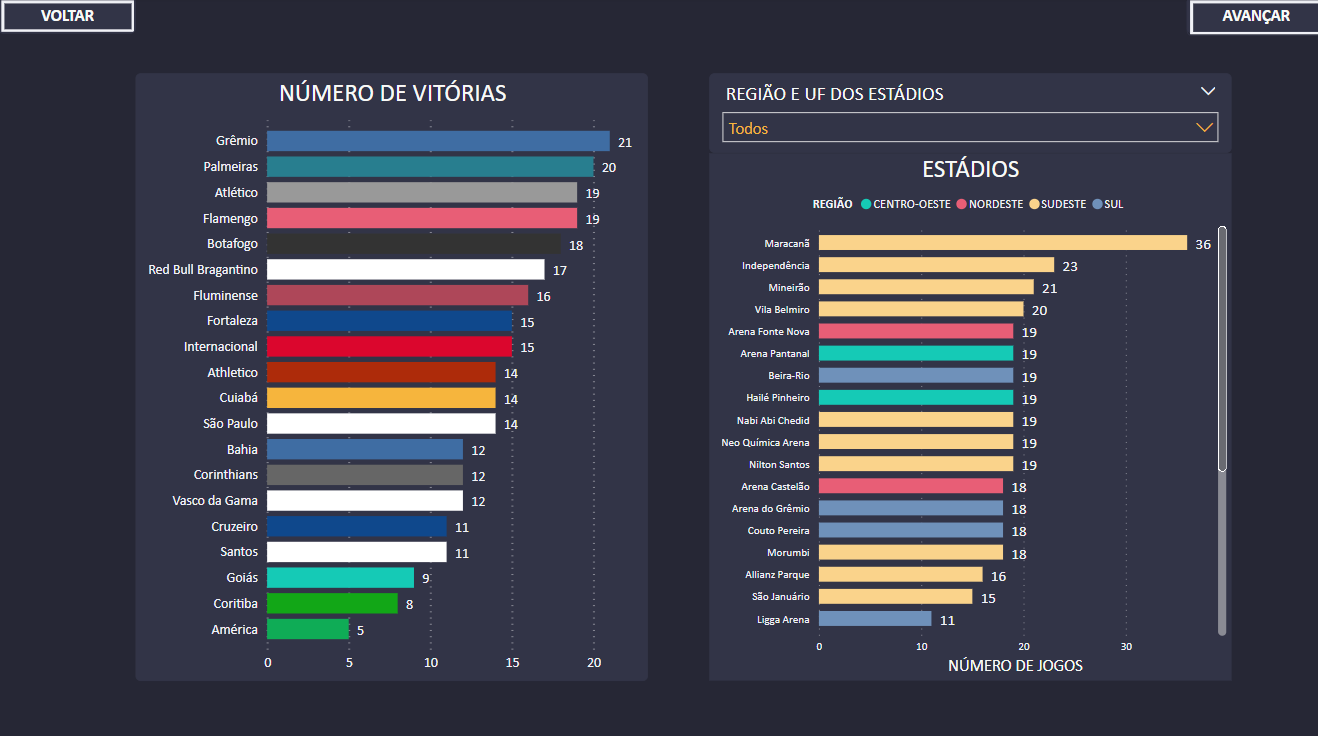

The dashboard page shown, as its layout file describes it:
{"tool":"powerbi","page":{"name":"2","canvas":[1280,720],"ordinal":2},"visuals":[{"type":"textbox","box":[0,0,132.5,35],"z":0},{"type":"textbox","box":[1147.5,0,132.5,35],"z":1000},{"type":"actionButton","box":[1147.5,0,132.5,37.5],"z":2000},{"type":"clusteredBarChart","title":"NÚMERO DE VITÓRIAS","fields":{"Category":["Nº_VITORIAS.EQUIPE"],"Y":["Nº_VITORIAS.NUMERO_DE_VITORIAS"]},"box":[132.7,73.6,494.5,586.1],"z":3000},{"type":"barChart","title":"ESTÁDIOS","fields":{"Category":["JOGOS_BRASILEIRAO_2023.ESTADIO"],"Y":["JOGOS_BRASILEIRAO_2023.UF"],"Series":["JOGOS_BRASILEIRAO_2023.REGIÃO"]},"box":[686.2,150.8,504.1,508.9],"z":4000},{"type":"slicer","fields":{"Values":["JOGOS_BRASILEIRAO_2023.REGIÃO","JOGOS_BRASILEIRAO_2023.UF"]},"box":[686.2,73.6,504.1,77.2],"z":5000},{"type":"actionButton","box":[0,0,132.7,35],"z":6000}]}

Visuals, with their boxes in screenshot pixels (x1, y1, x2, y2), scaled from the page's 1280x720 canvas onto the 1318x736 screenshot:
textbox: Rect(0, 0, 136, 36)
textbox: Rect(1182, 0, 1317, 36)
actionButton: Rect(1182, 0, 1317, 38)
"NÚMERO DE VITÓRIAS" clusteredBarChart: Rect(137, 75, 646, 674)
"ESTÁDIOS" barChart: Rect(707, 154, 1226, 674)
slicer - JOGOS_BRASILEIRAO_2023.REGIÃO x JOGOS_BRASILEIRAO_2023.UF: Rect(707, 75, 1226, 154)
actionButton: Rect(0, 0, 137, 36)
